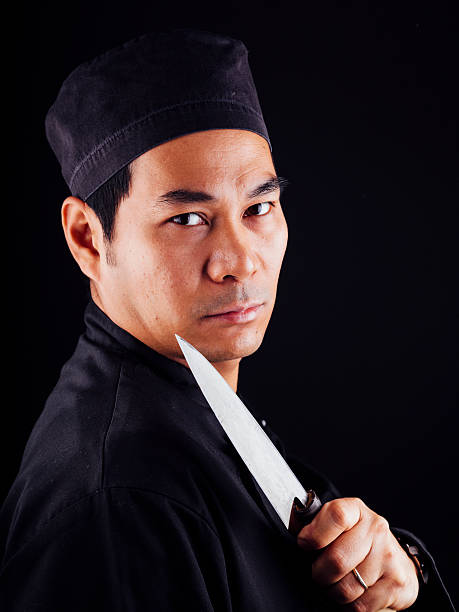knife: (172, 329, 325, 538)
